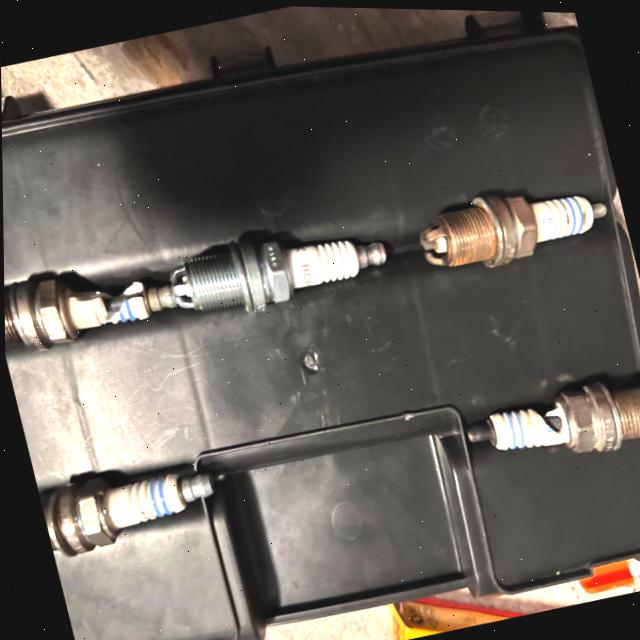damaged_spark-plug: (448, 356, 640, 484), (3, 249, 177, 370)
spark-plug: (158, 203, 397, 343), (408, 158, 623, 288), (36, 452, 225, 574)
